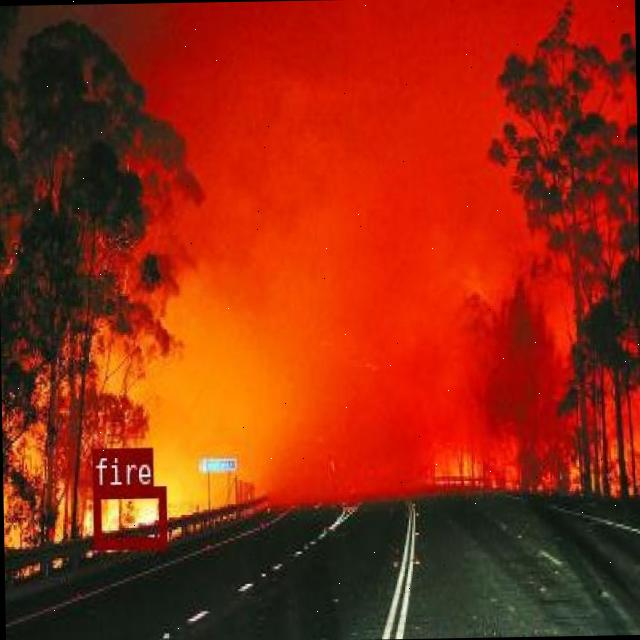fire: (92, 485, 165, 547)
